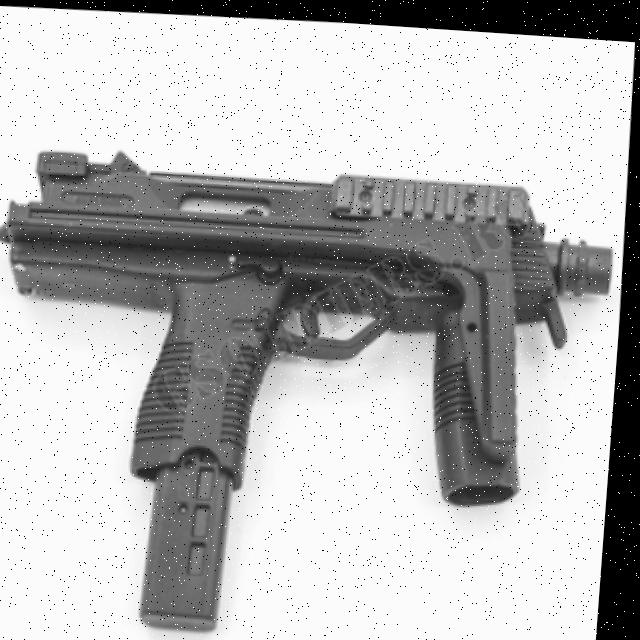firearm: (0, 125, 631, 640)
